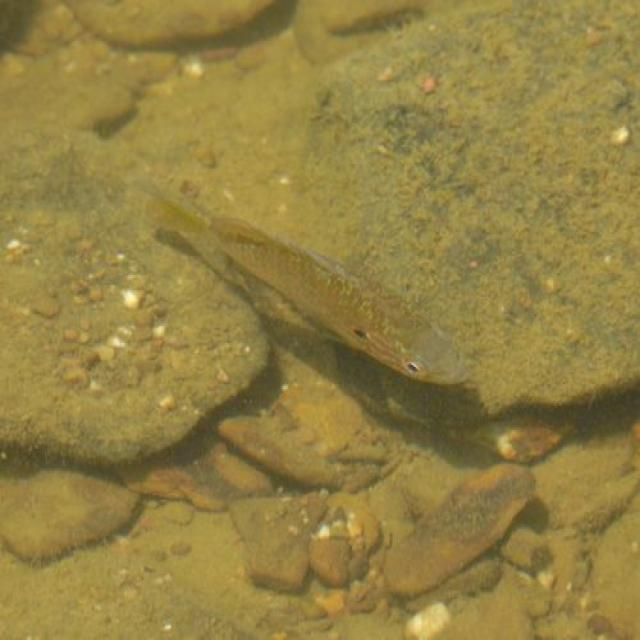Gunes Levregi: (136, 152, 476, 397)
